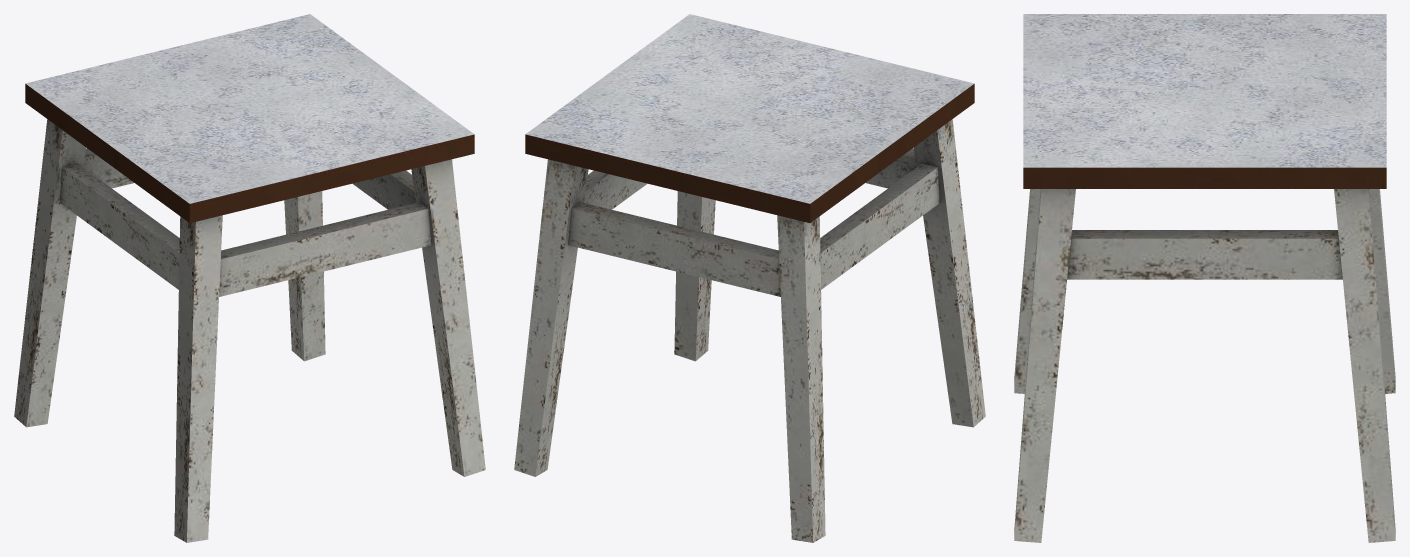
The model's file is stool_marble_lod1_web.glb.
3 renders of one model, left to right at view 1: azimuth 30°, elevation 25°; view 2: azimuth 150°, elevation 25°; view 3: azimuth 270°, elevation 25°, orthographic. The views are drawn at different scales.
Parts seen in each view (by area): view 1: StoolMarble_Mesh; view 2: StoolMarble_Mesh; view 3: StoolMarble_Mesh.
Boxes of the visible parts, <box> form: StoolMarble_Mesh: <box>14,14,485,542</box>; StoolMarble_Mesh: <box>514,14,985,542</box>; StoolMarble_Mesh: <box>1014,14,1395,542</box>.
Size of the model in its own units: 0.4201 by 0.4535 by 0.4199.
1 material, 1 textured.
